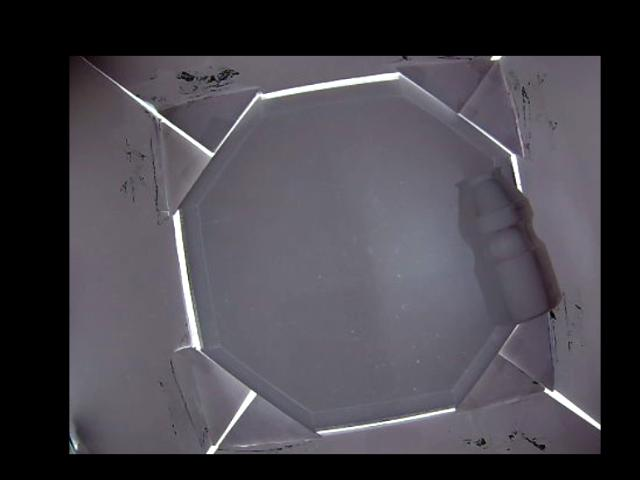Bottle: (458, 171, 554, 325)
